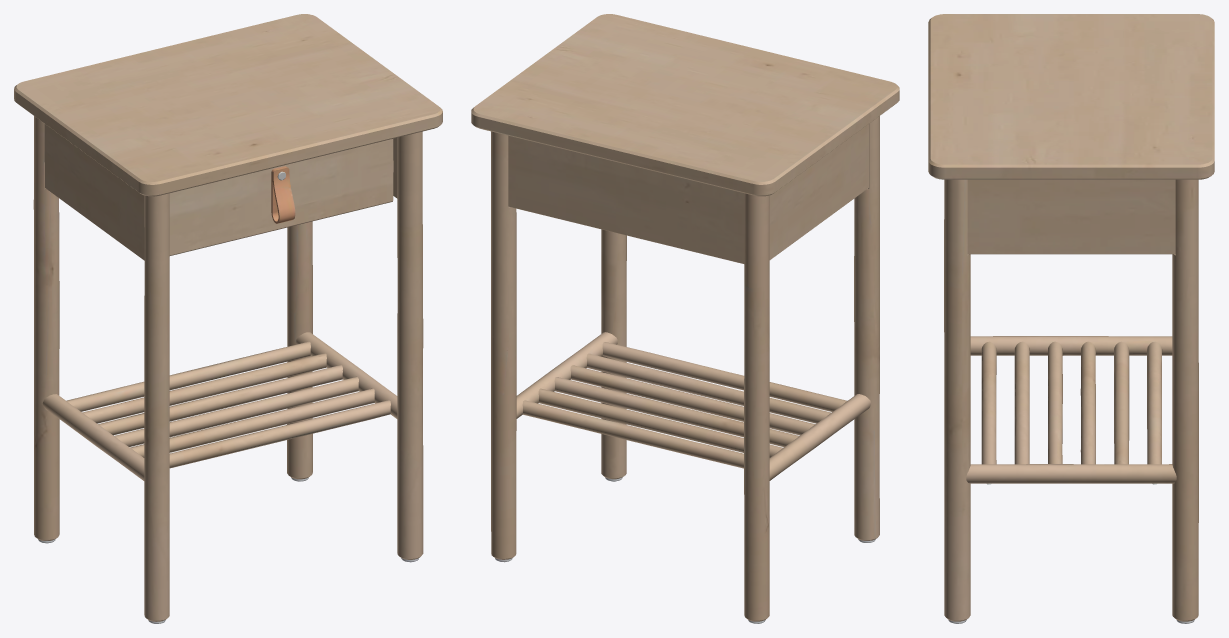
3 renders of one model, left to right at view 1: azimuth 30°, elevation 25°; view 2: azimuth 150°, elevation 25°; view 3: azimuth 270°, elevation 25°, orthographic. The views are drawn at different scales.
Visible parts, largest first — view 1: model; view 2: model; view 3: model.
Boxes of the visible parts, <box> form: model: <box>14,14,442,623</box>; model: <box>471,14,899,623</box>; model: <box>928,14,1214,623</box>.
Size of the model in its own units: 0.4799 by 0.685 by 0.3802.
1 material, 1 textured.
